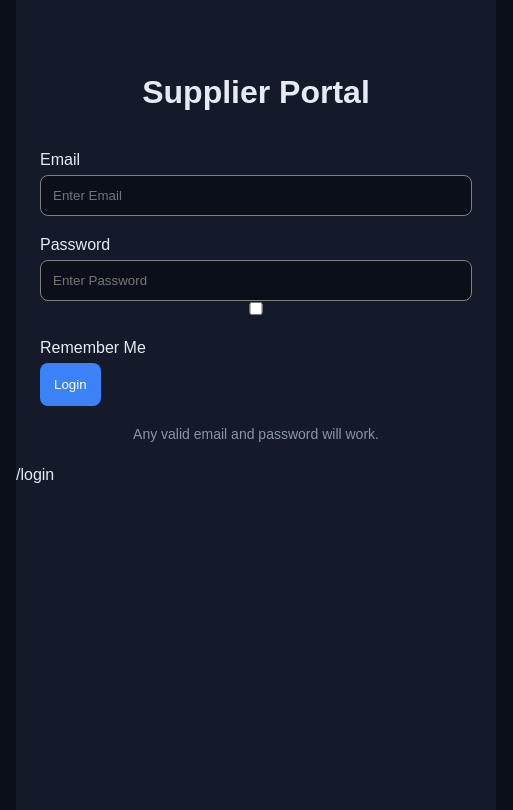
Test: Login › allows a valid internal next path
Type "supplier@company.com" into the field with placeholder "Enter Email" at (256, 196), box x1=40 y1=175 x2=472 y2=216
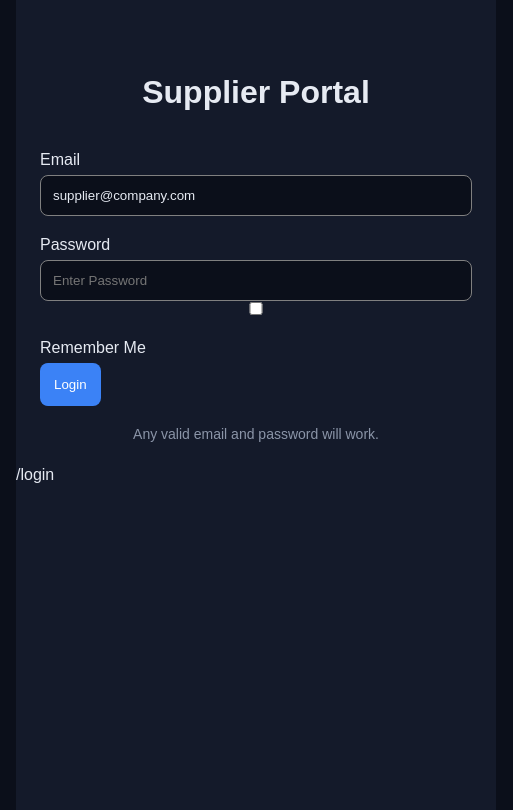
Type "supplier@123" into the password field with placeholder "Enter Password" at (256, 280), box x1=40 y1=260 x2=472 y2=301
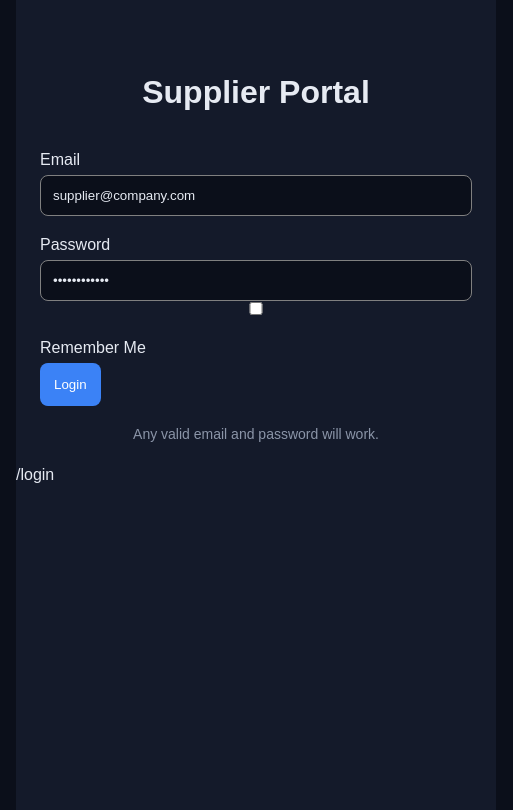
Click the button "Login" at (70, 384), box x1=40 y1=363 x2=101 y2=406
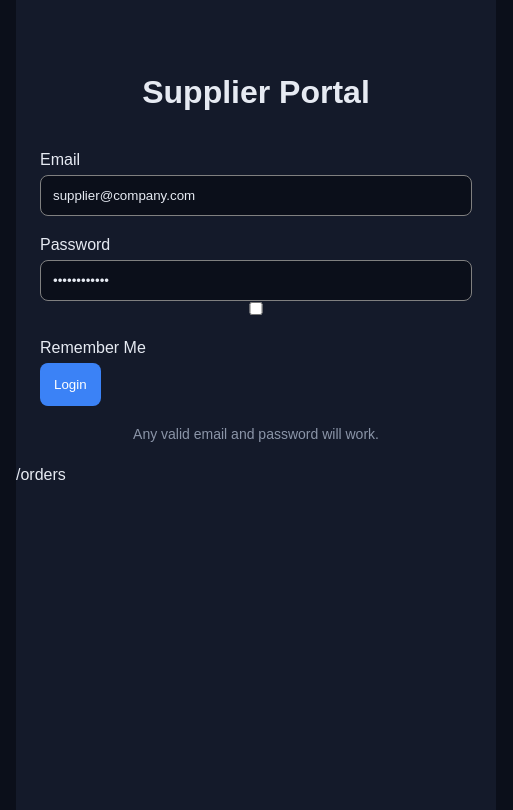
Result: the text with test id "location" reads "/orders" at x1=16 y1=466 x2=66 y2=483
